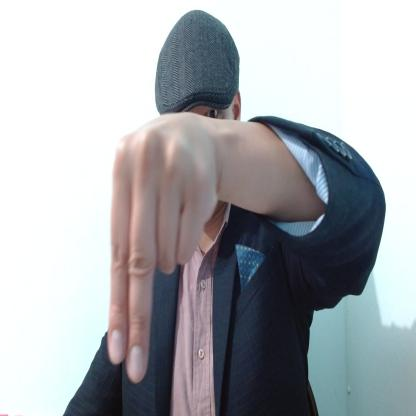N: (108, 113, 223, 384)
